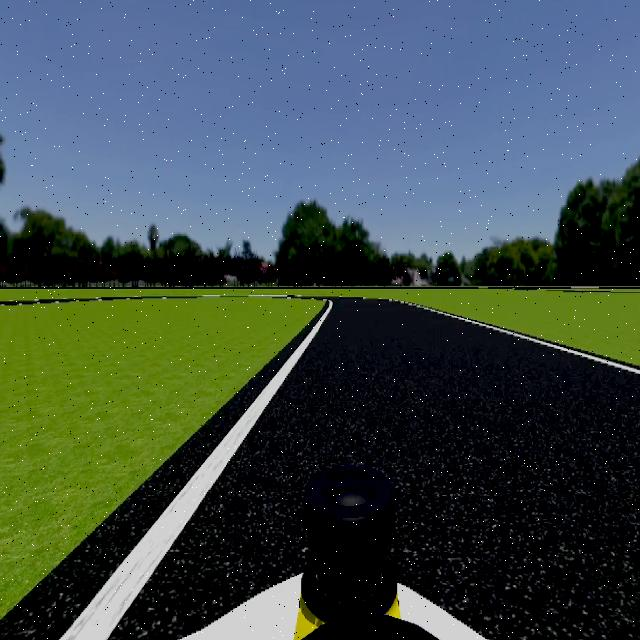road: (110, 301, 640, 640)
solid_line: (60, 303, 332, 640), (397, 302, 640, 377)
